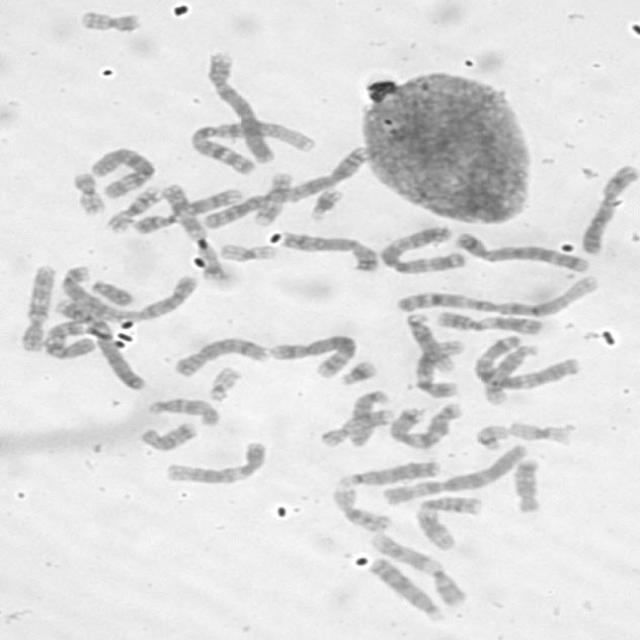A1: (395, 273, 600, 318), (186, 118, 319, 175)
A2: (202, 144, 372, 230), (60, 265, 199, 323)
A3: (473, 334, 580, 392), (380, 226, 467, 274)
B4: (53, 296, 151, 392), (202, 47, 280, 166)
B5: (454, 231, 592, 274), (266, 334, 358, 378)
C10: (20, 263, 56, 354), (42, 316, 98, 361)
C11: (413, 494, 484, 552), (436, 311, 545, 337)
C12: (164, 440, 268, 486), (413, 338, 468, 399)
C6: (381, 443, 528, 507), (89, 145, 157, 199)
C7: (159, 181, 232, 281), (388, 402, 464, 449)
C8: (279, 228, 381, 273), (174, 336, 268, 378)
C9: (368, 532, 469, 608), (130, 187, 244, 236)
D13: (368, 556, 447, 622), (334, 459, 443, 486)
D14: (482, 342, 538, 407), (402, 312, 457, 374)
D15: (346, 388, 389, 449), (146, 397, 222, 427)
E16: (105, 184, 163, 235), (330, 486, 393, 532)
E17: (319, 407, 396, 449), (252, 170, 295, 227)
E18: (512, 458, 546, 516), (139, 420, 198, 452)
F19: (508, 420, 572, 446), (218, 242, 278, 266)
F20: (77, 9, 144, 34), (73, 172, 108, 218)
G21: (308, 186, 343, 220), (338, 360, 378, 385)
G22: (208, 365, 242, 402), (474, 423, 509, 451)
X: (578, 163, 640, 256)
Y: (89, 280, 135, 307)
